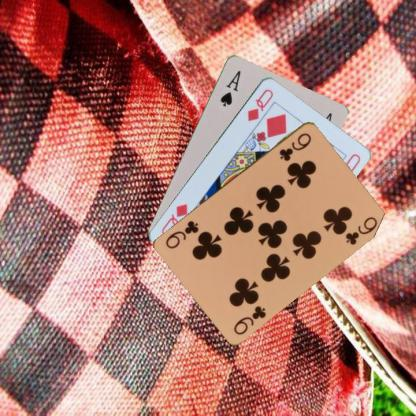9c: (230, 302, 268, 336), (276, 129, 313, 162)
As: (217, 68, 242, 108)
Qd: (244, 86, 274, 122)
